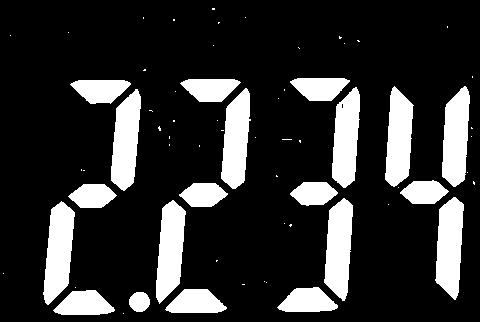2: (154, 75, 253, 313), (42, 77, 140, 316)
3: (275, 73, 363, 314)
4: (379, 84, 473, 302)
dot: (129, 288, 150, 313)
